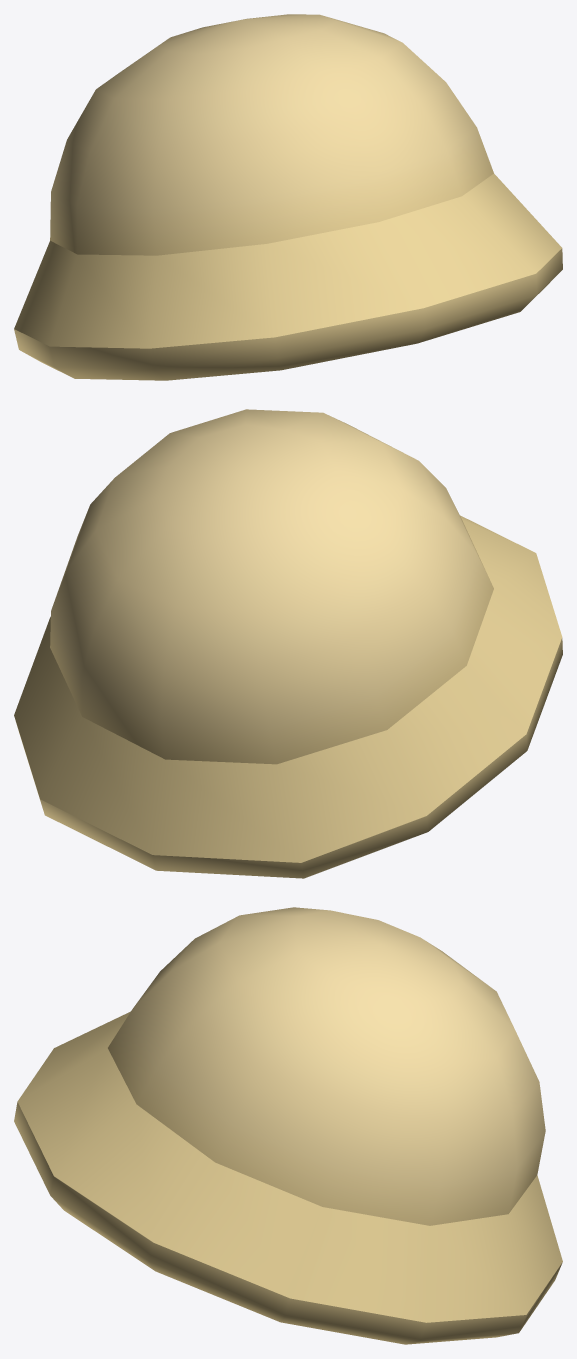
The model's file is Headgear_9.fbx.
The picture shows the model from 3 angles, top to bottom: view 1: azimuth 30°, elevation 25°; view 2: azimuth 150°, elevation 25°; view 3: azimuth 270°, elevation 25°; orthographic projection.
Visible parts, largest first — view 1: Headgear_9; view 2: Headgear_9; view 3: Headgear_9.
Part boxes in pixels (x1,y1,x2,y2): Headgear_9: (14, 14, 562, 380); Headgear_9: (14, 409, 562, 878); Headgear_9: (14, 907, 562, 1344).
Bounding box in the file's own units: 98.17 × 69.71 × 97.41.
